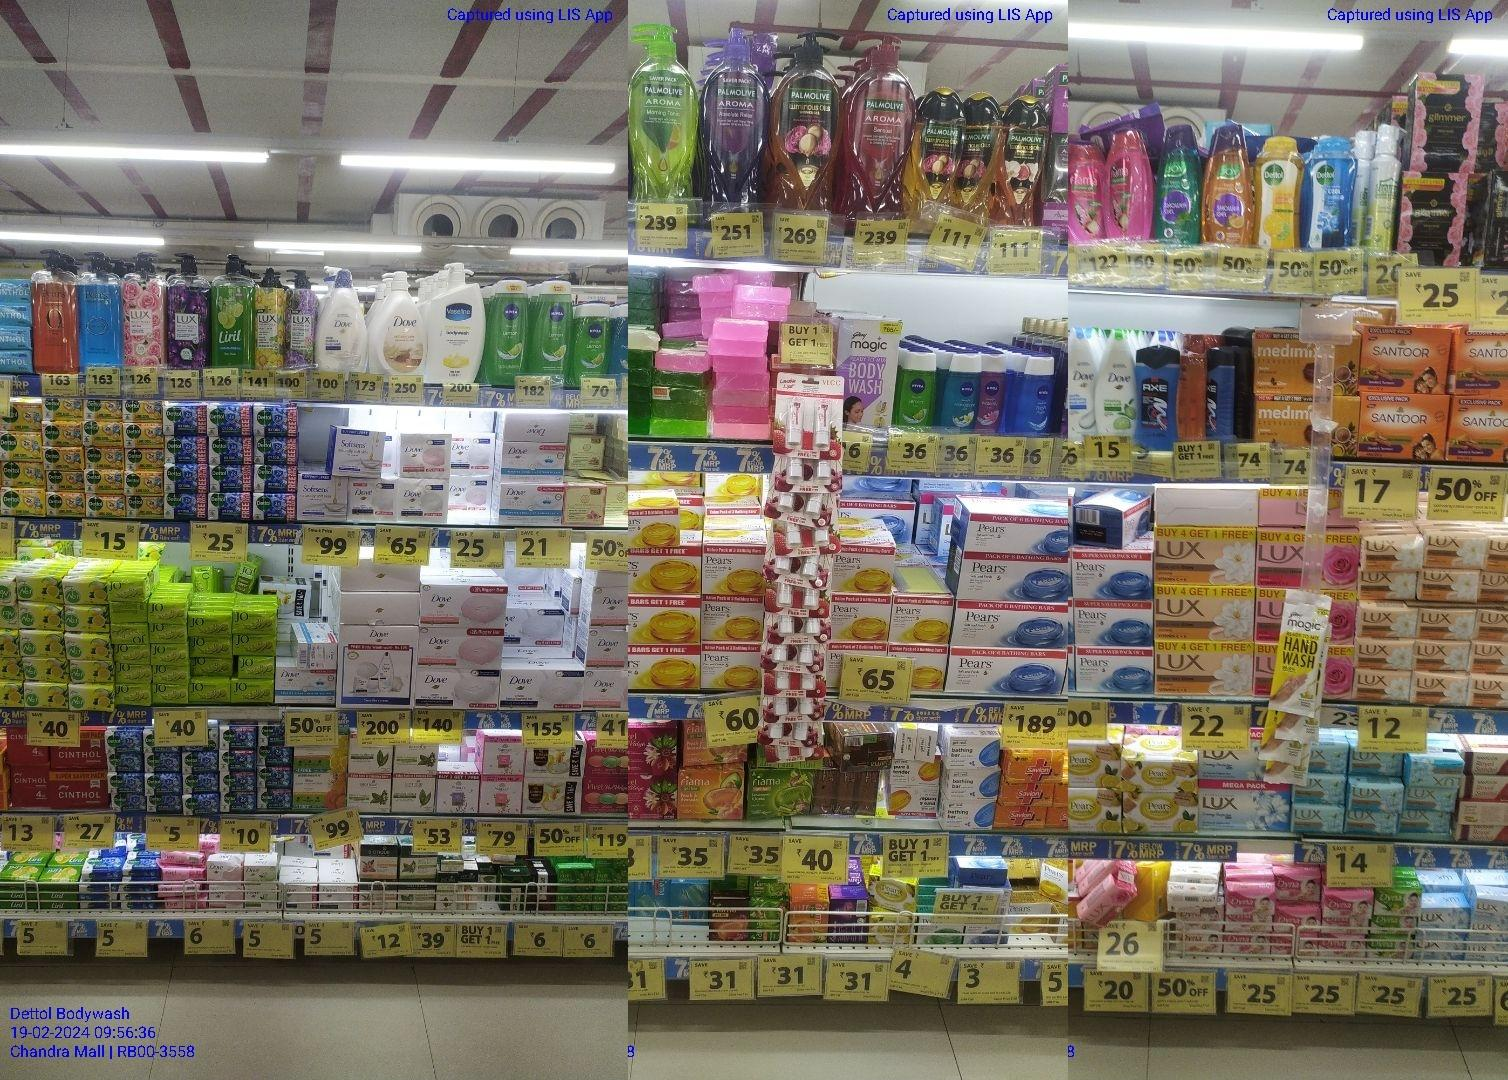Dettol_Bodywash_Cool: (1303, 134, 1355, 248)
Dettol_Bodywash_Refresh: (1251, 136, 1302, 249)
Dove_Refreshing_Body_Wash_250ML: (1092, 327, 1136, 435)
Fiama_Shower_Gel_Patchouli_and_Macadamia_250ML: (1105, 126, 1155, 242)
Joy_Shower_Gel_Mandarin_and_Lemongrass_250ML: (1201, 122, 1252, 244)
Joy_Shower_Gel_Mint_and_Eucalyptus_250ML: (1155, 123, 1199, 243)
Nivea_Shower_Gel_Lemon_and_Oil_250ML: (485, 275, 530, 386), (530, 278, 573, 372), (572, 302, 611, 375)
Palmolive_Luminous_Oils_Invigorating_Macadamia_Oil_With_Peony_250ML: (915, 85, 967, 212)
Palmolive_Luminous_Oils_With_White_Orchid_Shower_Gel_250ML: (997, 92, 1050, 226)
